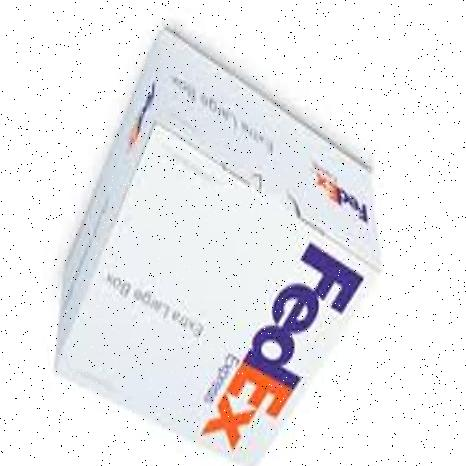FedEx: (49, 25, 386, 466)
